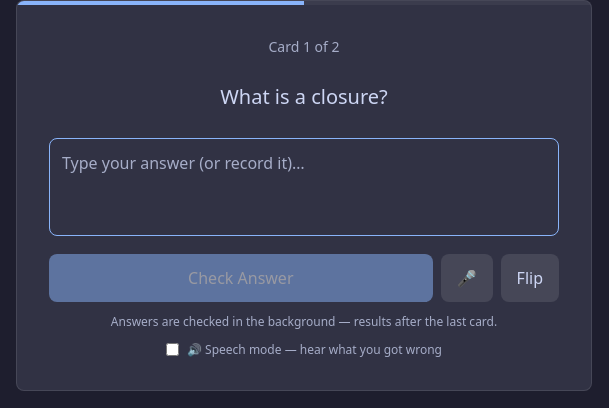
Test: ReviewSession › retiring from the rating slide › retires the card instead of rating it and moves on
The image size is (609, 408).
expect the text "What is a closure?" is shown: met, box [220,83,388,110]
Click the button "Flip": [530, 278] box [501,254,559,302]
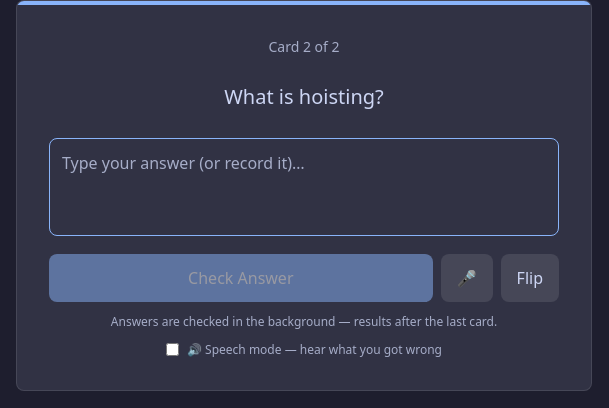
expect the text "What is hoisting?" is shown: met, box [224,83,384,110]
Click the button "Flip": [530, 278] box [501,254,559,302]
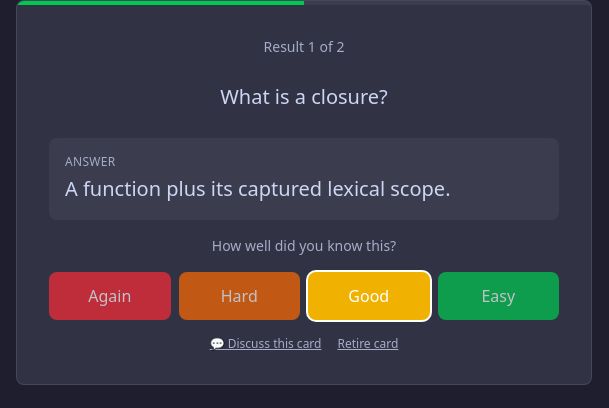
expect the text "Result 1 of 2" is shown: met, box [264,37,344,56]
Click the button "Retire card": [368, 344] box [338,336,398,352]
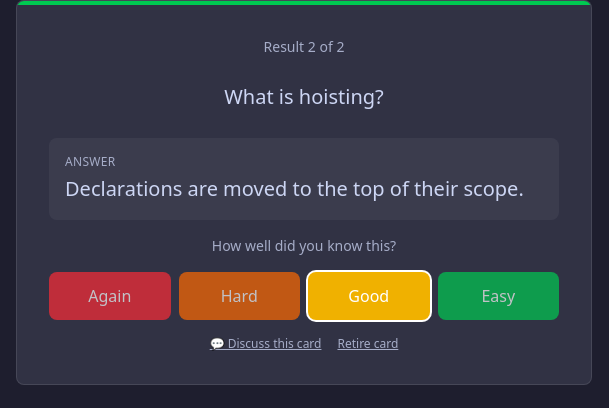
expect the text "Result 2 of 2" is shown: met, box [264,37,344,56]
